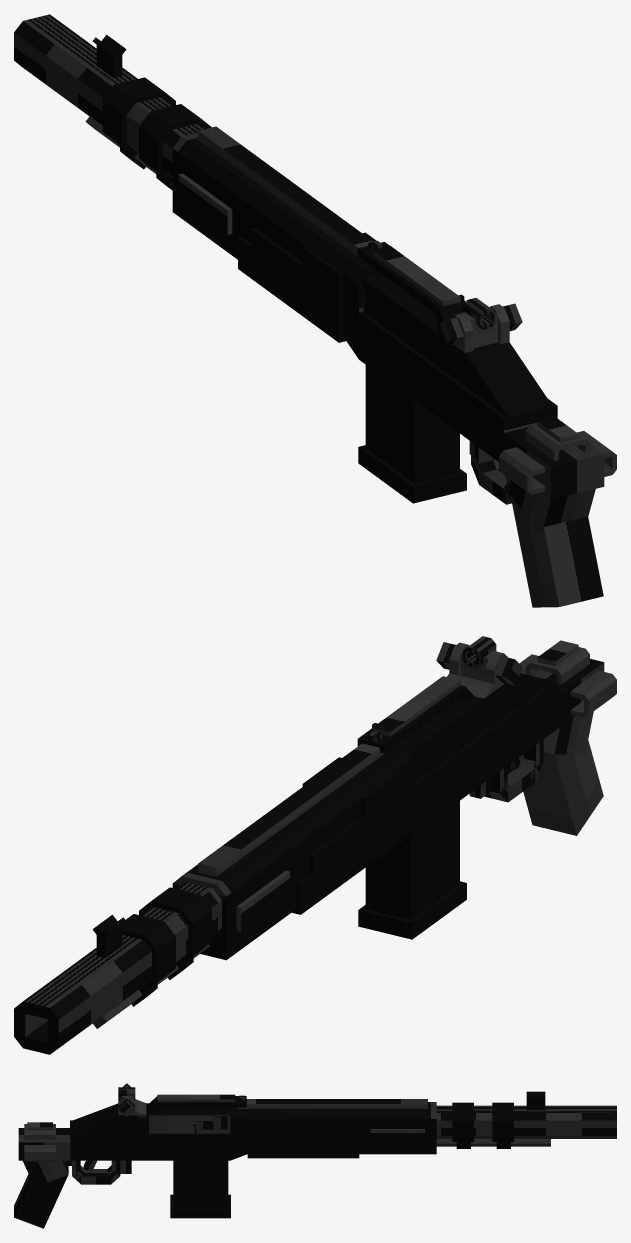
The model's file is mteg_m14_ebr.glb.
3 views of the same model, one above another, from view 1: azimuth 30°, elevation 25°; view 2: azimuth 150°, elevation 25°; view 3: azimuth 270°, elevation 25° (orthographic). The views are drawn at different scales.
Parts seen in each view (by area): view 1: Gun; view 2: Gun; view 3: Gun.
Boxes of the visible parts, x1,y1,x2,y2 form: Gun: [14, 14, 616, 607]; Gun: [14, 636, 616, 1054]; Gun: [14, 1083, 616, 1228].
Bounding box in the file's own units: 0.1249 × 0.3235 × 1.32.
1 material, 1 textured.
